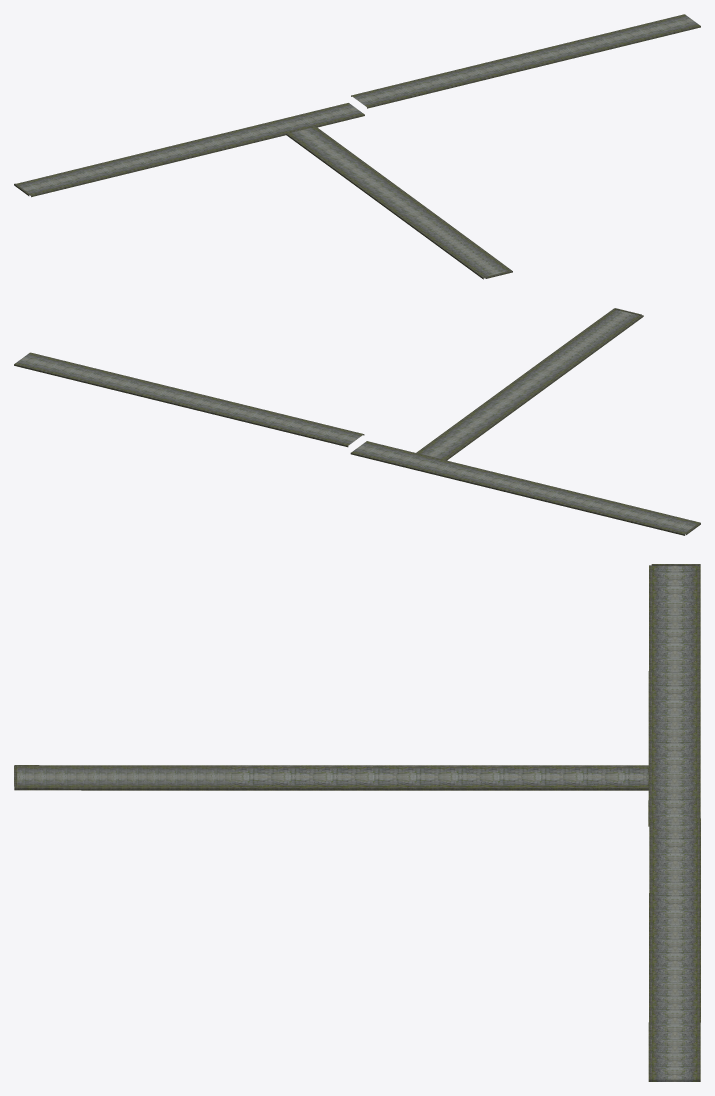
File: floor.obj
3 views of the same model, one above another, from view 1: azimuth 30°, elevation 25°; view 2: azimuth 150°, elevation 25°; view 3: azimuth 270°, elevation 25° (orthographic). The views are drawn at different scales.
Parts seen in each view (by area): view 1: 20bc2510.obj; view 2: 20bc2510.obj; view 3: 20bc2510.obj.
Boxes of the visible parts, <box> form: 20bc2510.obj: <box>14,14,700,279</box>; 20bc2510.obj: <box>14,308,700,535</box>; 20bc2510.obj: <box>14,564,700,1081</box>.
Size of the model in its own units: 147 by 1.66 by 81.35.
1 material, 1 textured.
